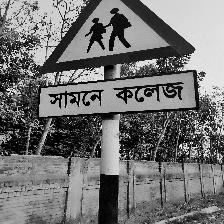College-in-front: (21, 0, 221, 138)
